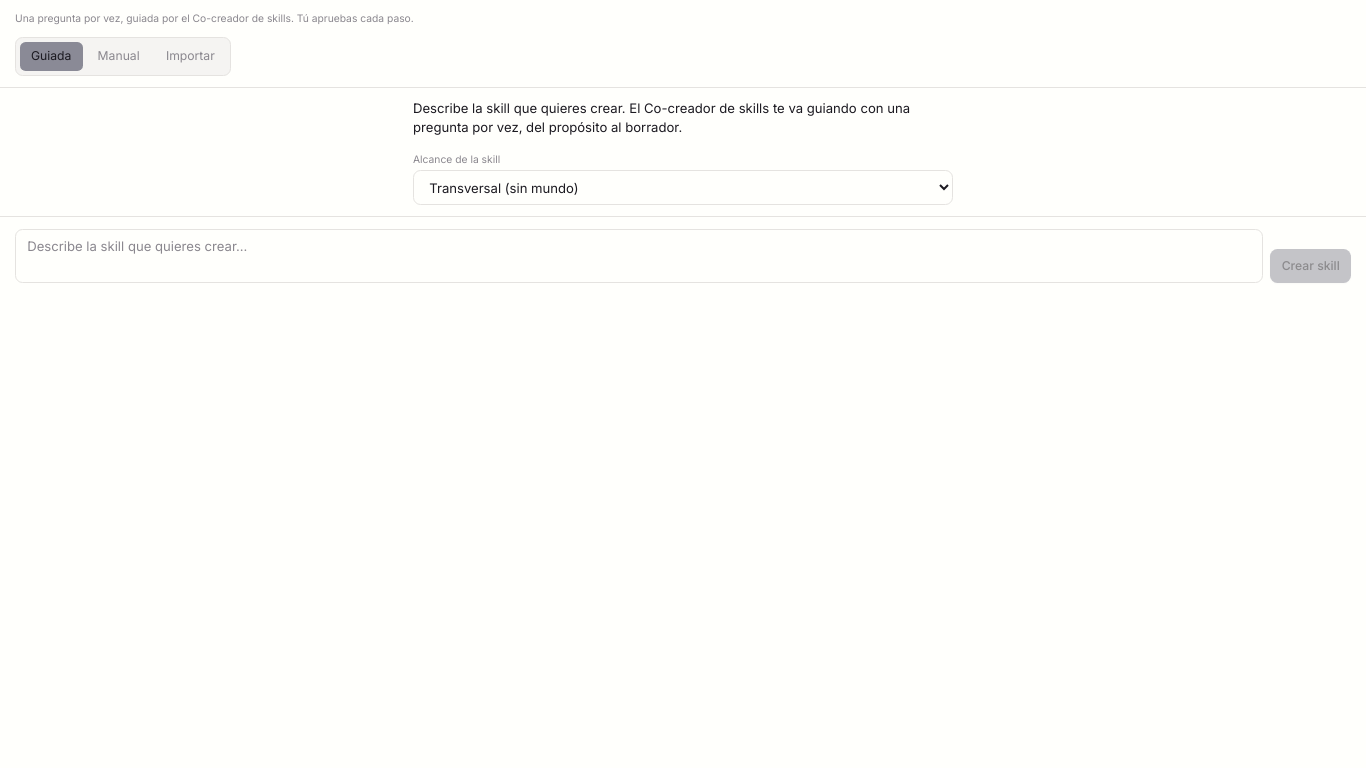
Scenario: CoCreationPanel — authoring sub-modes (REQ-CC-1) › renders the manual markdown draft form in manual mode (SC-CC-1.2)
Click the tab "Manual".
click(119, 56)  # box [86,42,151,71]
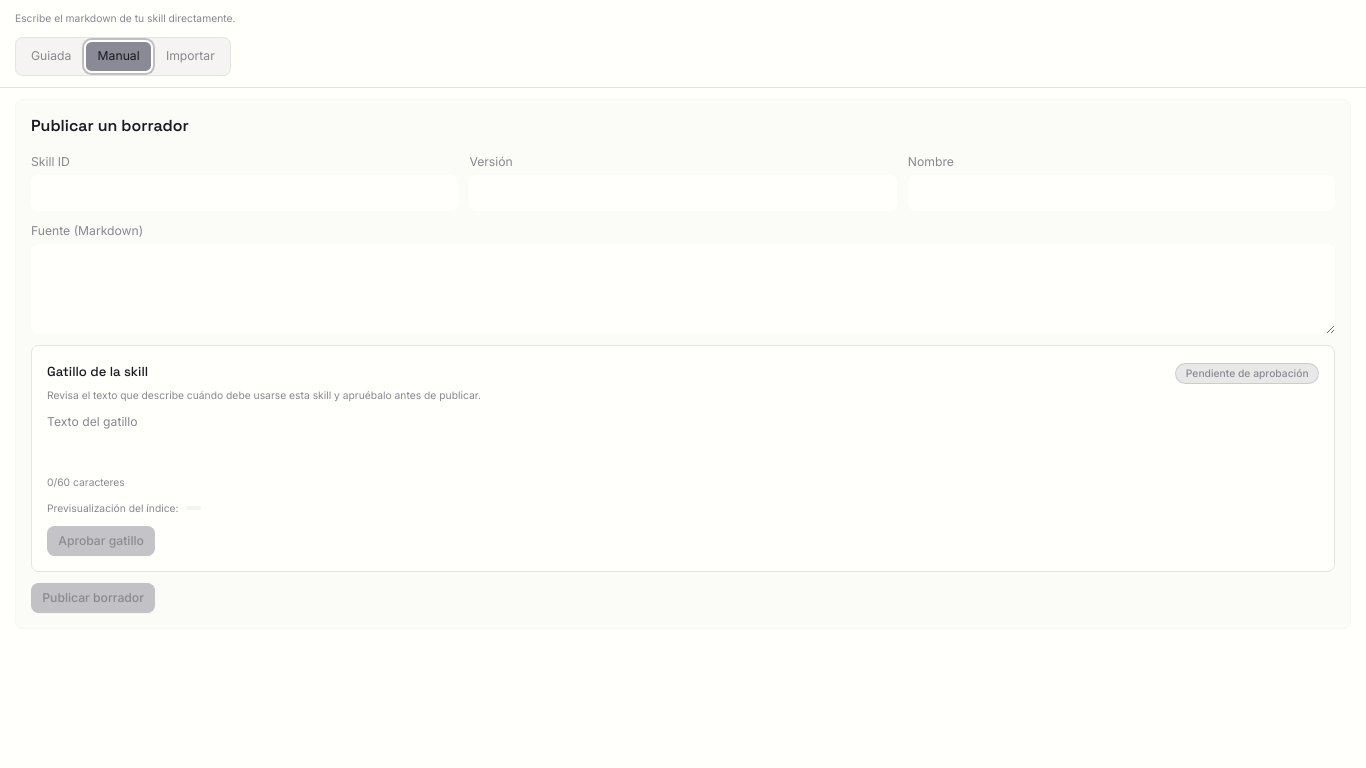
Now the heading "Publicar un borrador" is shown, box [31,116,189,136]
Now the text box labelled "Fuente (Markdown)" is shown, box [31,244,1335,334]
Now the button "Publicar borrador" is shown, box [31,583,155,613]
